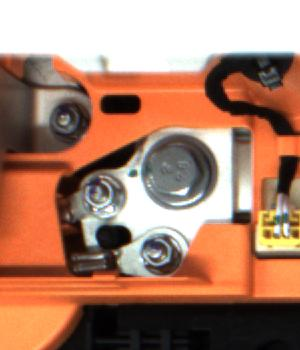nut_b: (137, 134, 220, 213)
screw_s: (65, 178, 128, 221), (137, 228, 181, 274), (47, 101, 89, 139)
